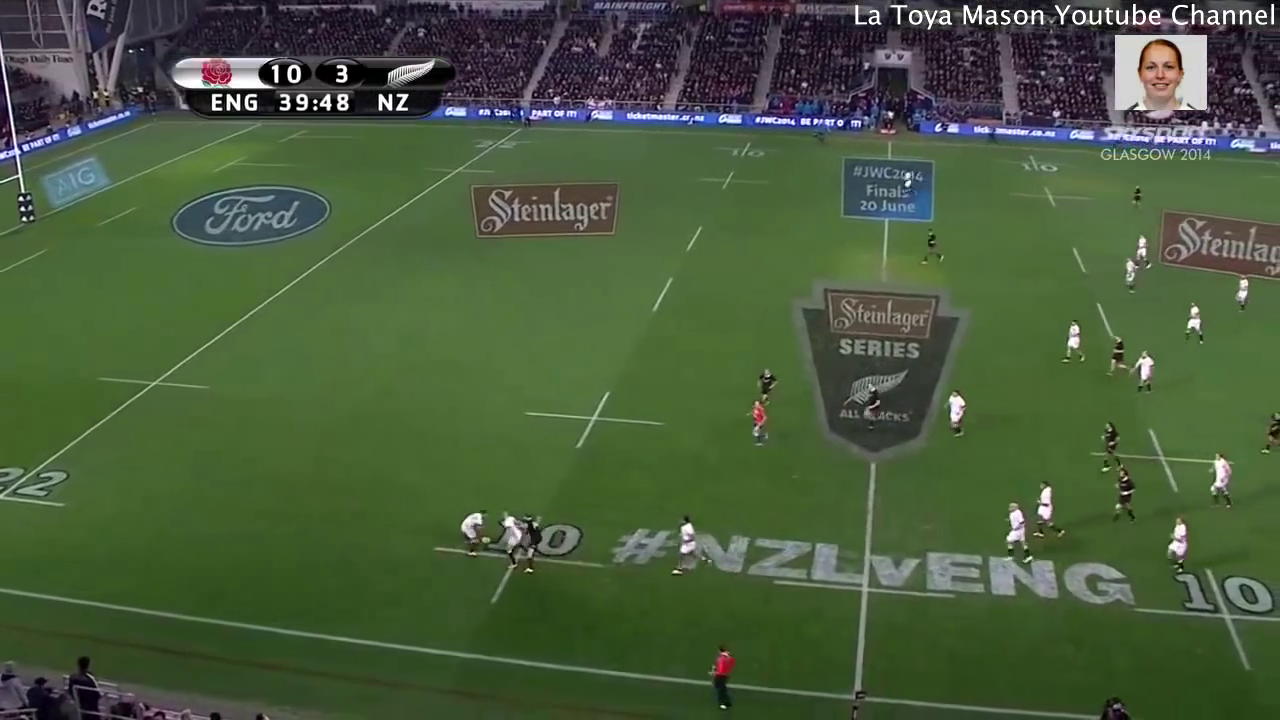10_metre: (433, 505, 606, 608), (1121, 561, 1280, 673), (1086, 421, 1245, 506), (516, 385, 669, 461), (1005, 180, 1100, 214), (993, 150, 1082, 181), (710, 134, 786, 165), (685, 167, 776, 190)
ball: (476, 532, 493, 550)
player: (993, 500, 1037, 572), (1025, 473, 1067, 543), (1197, 449, 1240, 514), (671, 511, 712, 576), (455, 503, 497, 560), (1092, 418, 1125, 476), (939, 381, 970, 442), (1159, 510, 1188, 575), (737, 394, 773, 444), (1107, 464, 1136, 523), (493, 508, 522, 564), (1129, 345, 1157, 395), (1060, 316, 1086, 369), (917, 228, 950, 268), (1129, 229, 1157, 276), (517, 513, 542, 565), (1106, 334, 1132, 384), (755, 358, 779, 410), (860, 378, 883, 432), (1181, 300, 1208, 345), (1258, 404, 1280, 458), (1228, 271, 1251, 312), (1119, 254, 1139, 292), (1127, 180, 1148, 216), (899, 165, 914, 195)
post: (1, 95, 44, 248)
